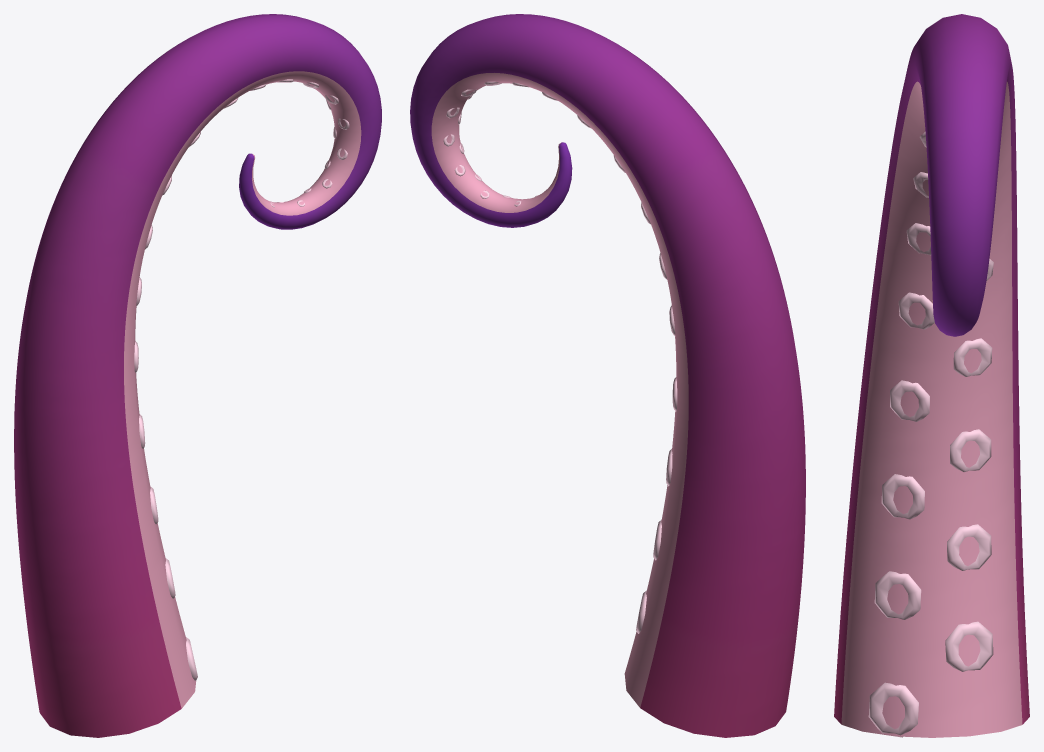
Rendered from tentacle.glb.
3 renders of one model, left to right at view 1: azimuth 30°, elevation 25°; view 2: azimuth 150°, elevation 25°; view 3: azimuth 270°, elevation 25°, orthographic. The views are drawn at different scales.
Parts seen in each view (by area): view 1: Tentacle; view 2: Tentacle; view 3: Tentacle.
Boxes of the visible parts, x1=… form: Tentacle: x1=14, y1=14, x2=381, y2=737; Tentacle: x1=410, y1=14, x2=805, y2=737; Tentacle: x1=834, y1=14, x2=1029, y2=737.
Bounding box in the file's own units: 3.92 × 6.62 × 1.5.
